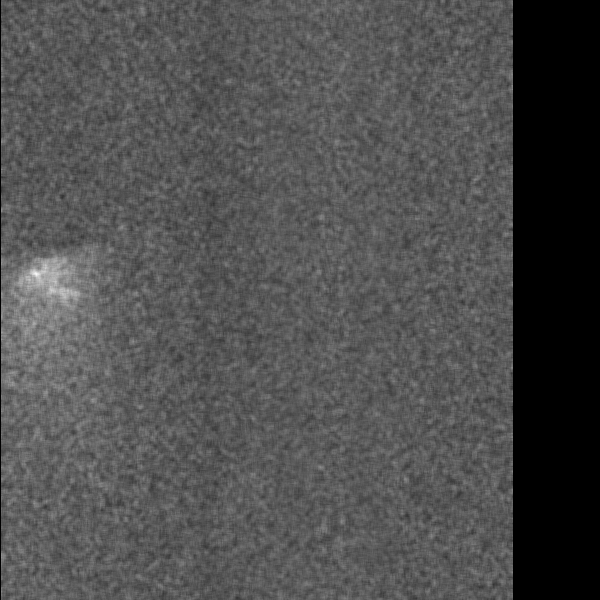spark: (11, 263, 87, 323)
